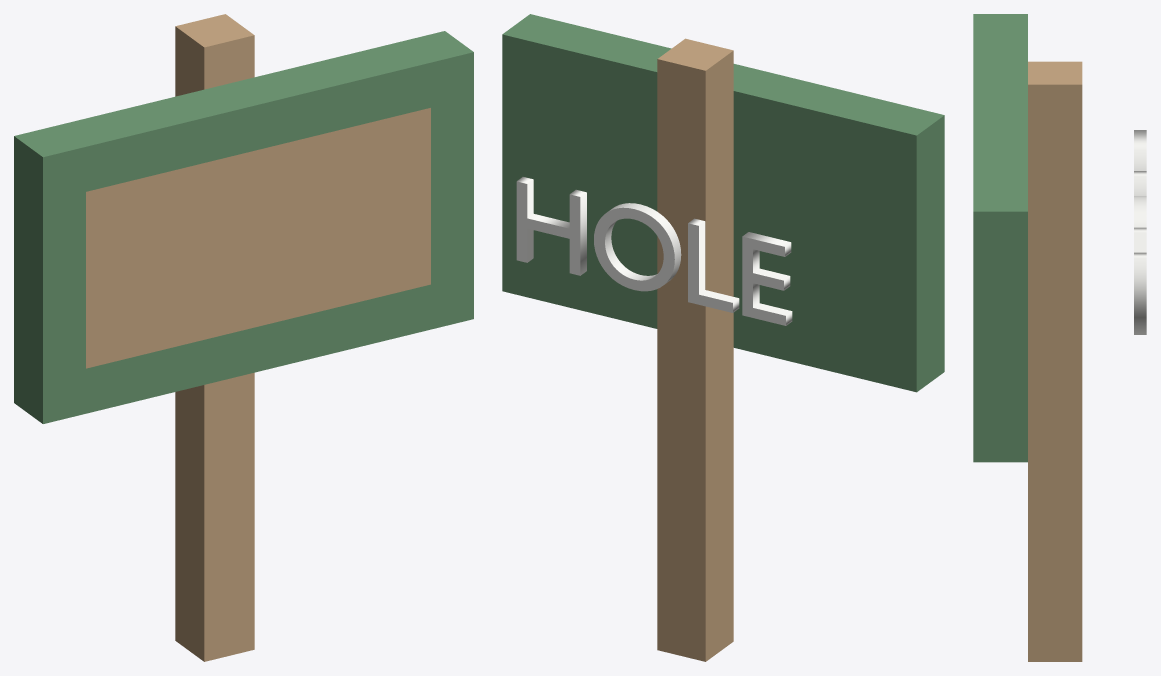
Rendered from sign_hole.glb.
3 views of the same model, side by side, from view 1: azimuth 30°, elevation 25°; view 2: azimuth 150°, elevation 25°; view 3: azimuth 270°, elevation 25° (orthographic). The views are drawn at different scales.
Visible parts, largest first — view 1: sign.001; view 2: sign.001, sign_text_HOLE; view 3: sign.001, sign_text_HOLE.
Boxes of the visible parts, <box> form: sign.001: <box>14,14,473,661</box>; sign.001: <box>502,14,944,661</box>; sign_text_HOLE: <box>516,177,792,325</box>; sign.001: <box>973,14,1082,661</box>; sign_text_HOLE: <box>1134,130,1146,334</box>.
Size of the model in its own units: 0.9 by 1.23 by 0.3335.
